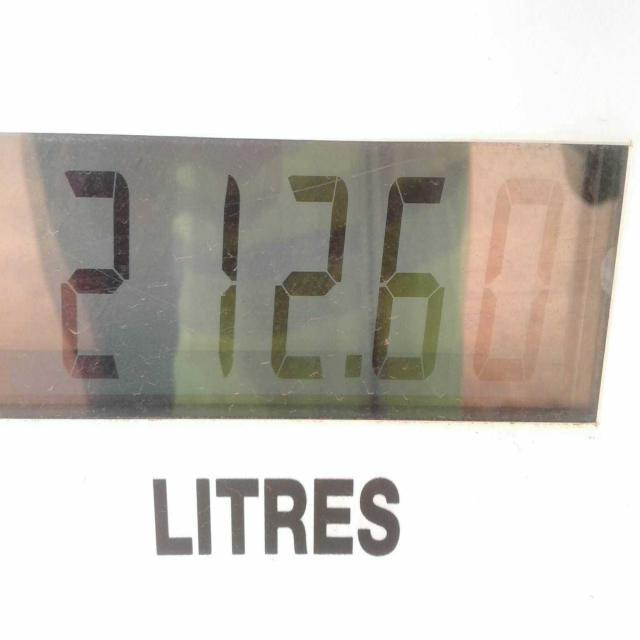.: (345, 346, 363, 387)
0: (470, 172, 566, 387)
1: (215, 171, 258, 389)
2: (272, 170, 350, 386), (60, 169, 130, 386)
6: (372, 172, 447, 378)
screen: (0, 126, 616, 422)
